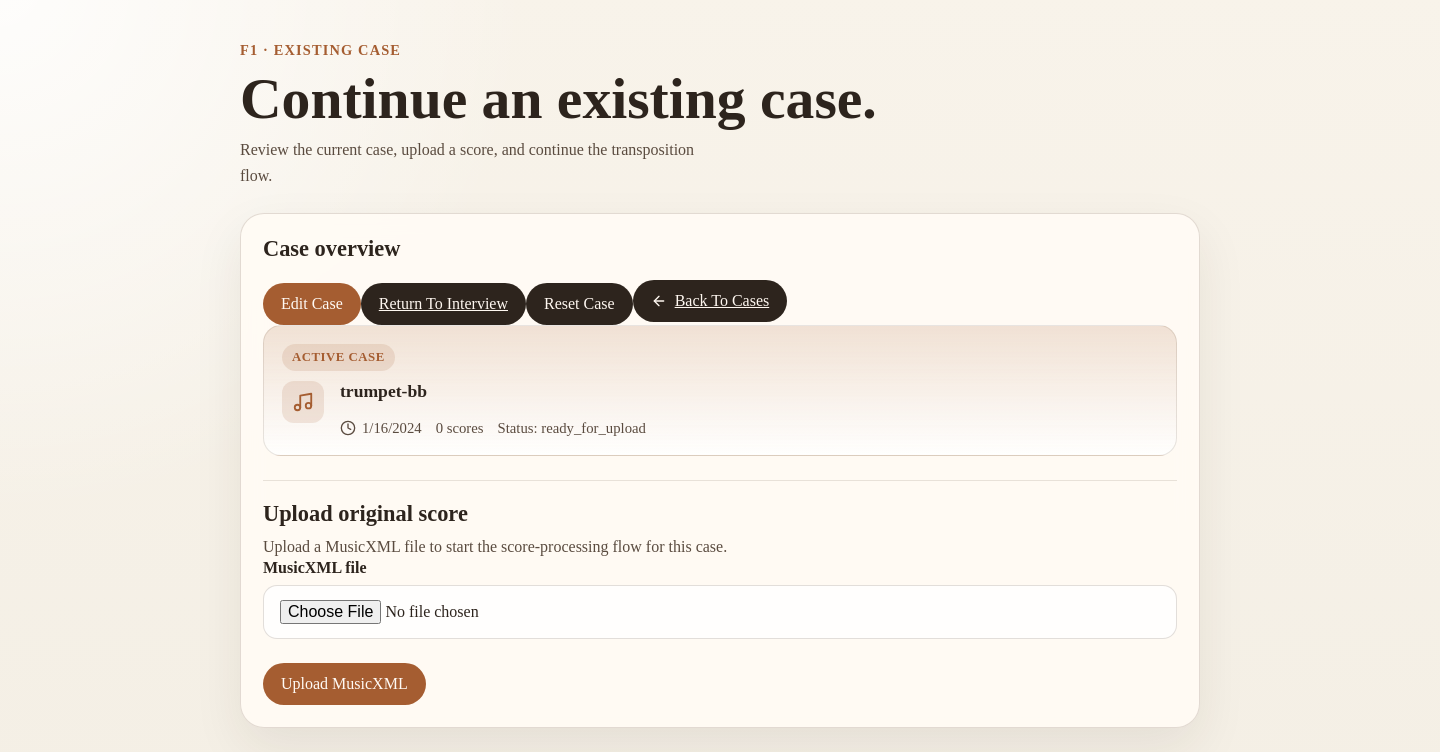
Test case: CaseDetailPage › allows editing the case constraints directly on the case page
This screenshot has width=1440, height=752.
Click the button "Edit Case". click: (312, 304)
box: 263,283 -> 361,325
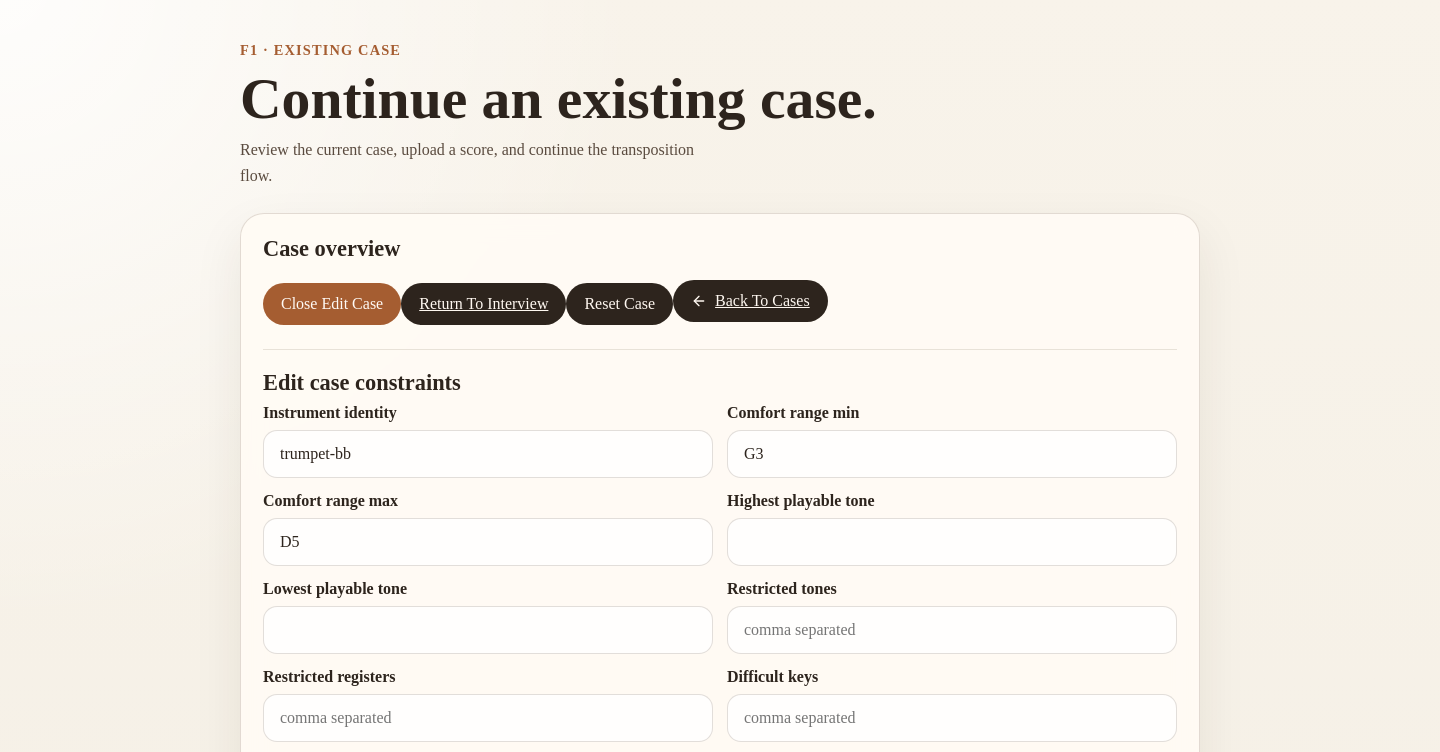
Replace the text in the field labelled "Instrument identity" with "flute". click: (488, 454)
box: 263,430 -> 713,478
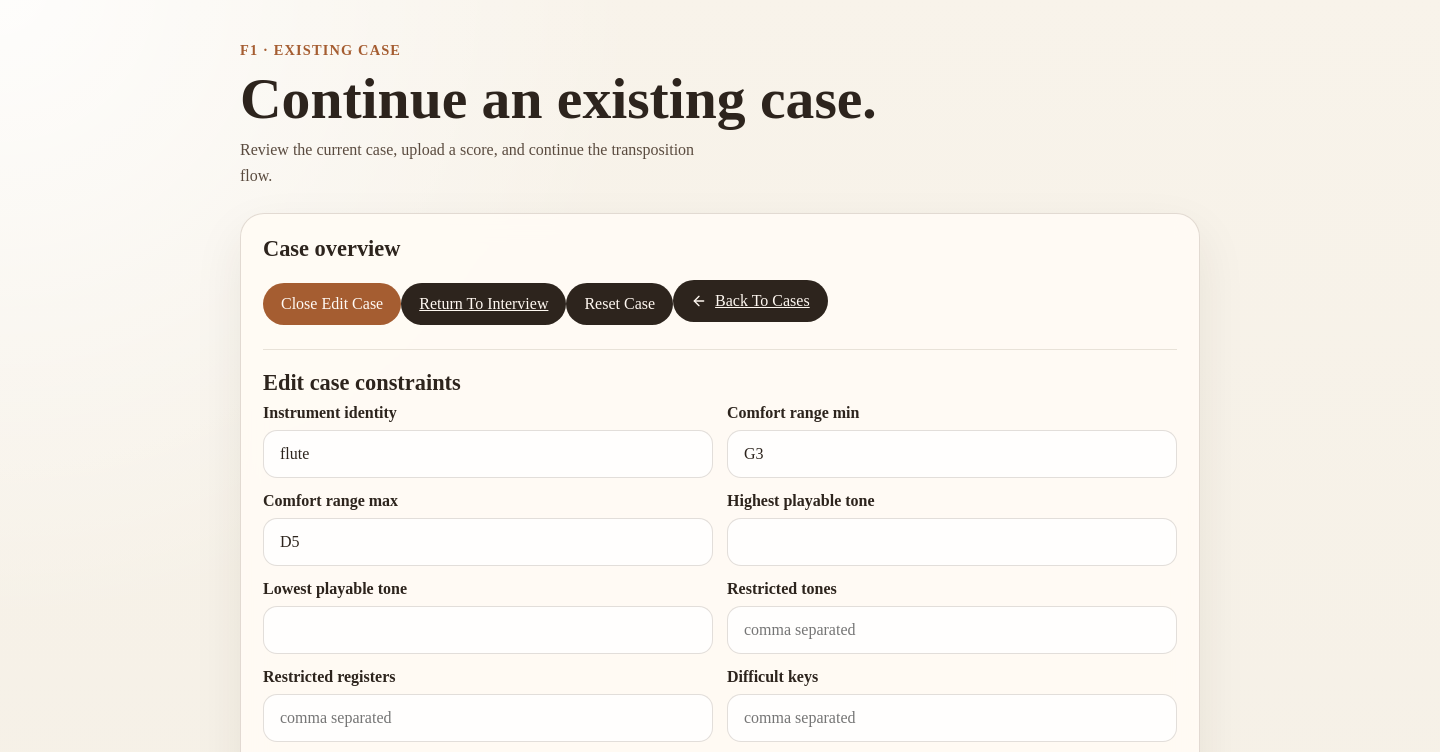
Replace the text in the field labelled "Comfort range min" with "A3". click: (952, 454)
box: 727,430 -> 1177,478
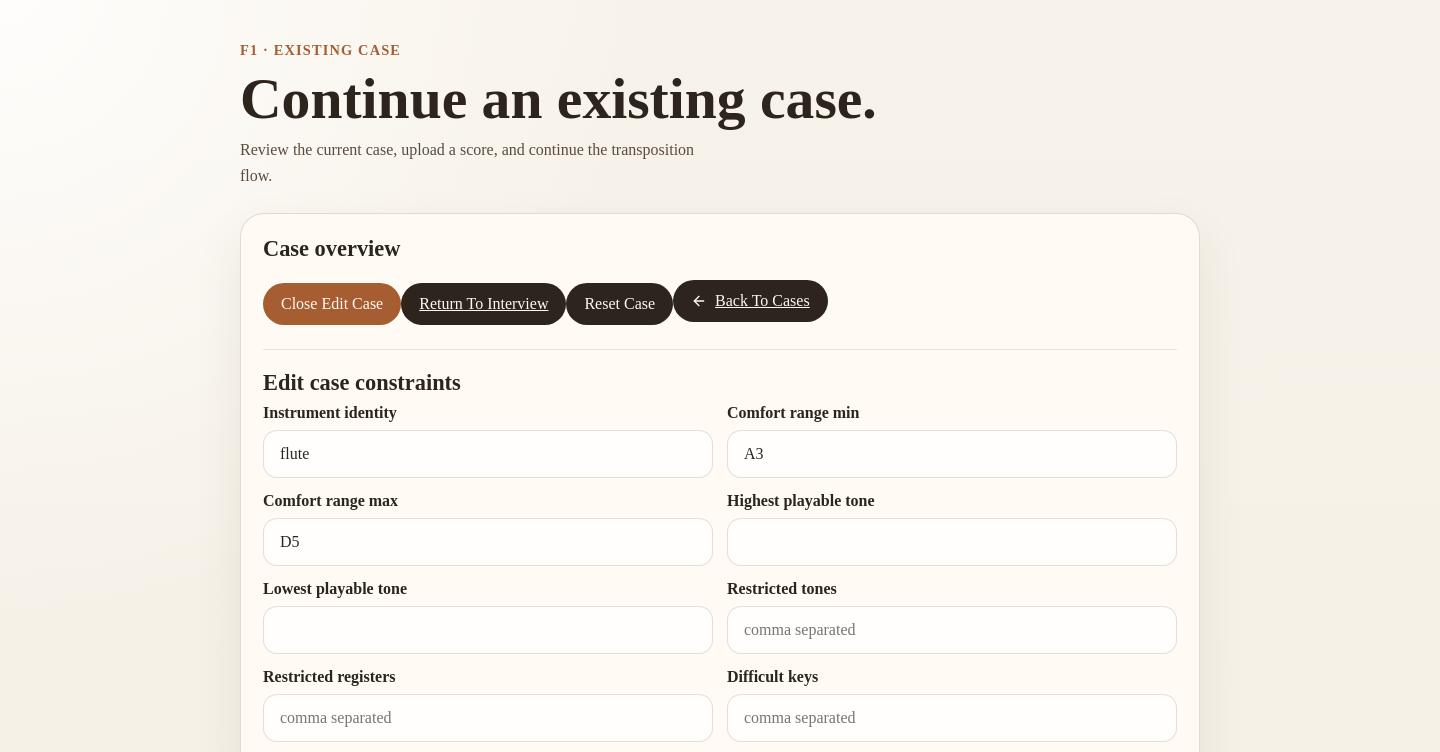
Replace the text in the field labelled "Comfort range max" with "E5". click: (488, 542)
box: 263,518 -> 713,566
(page scrolled)
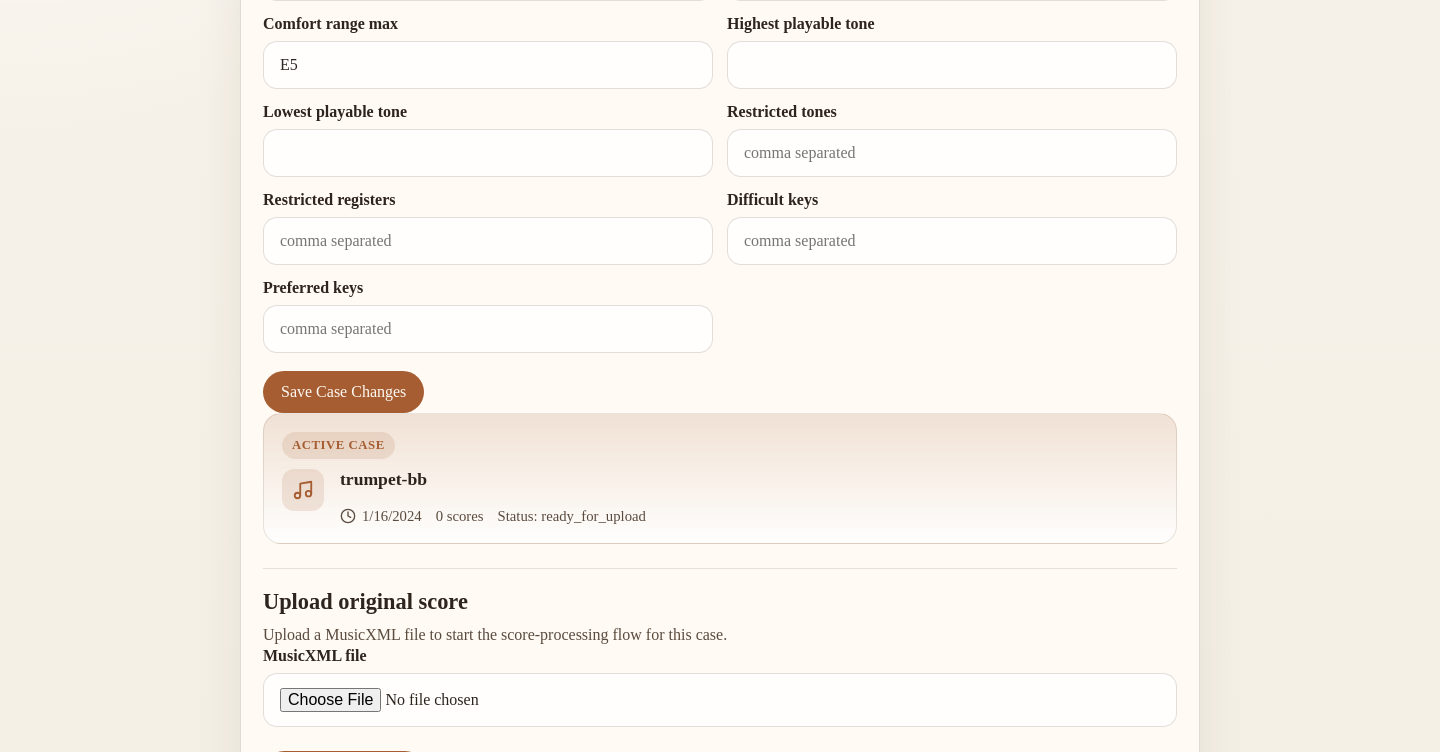
Click the button "Save Case Changes". click: (344, 392)
box: 263,371 -> 424,413
(page scrolled)
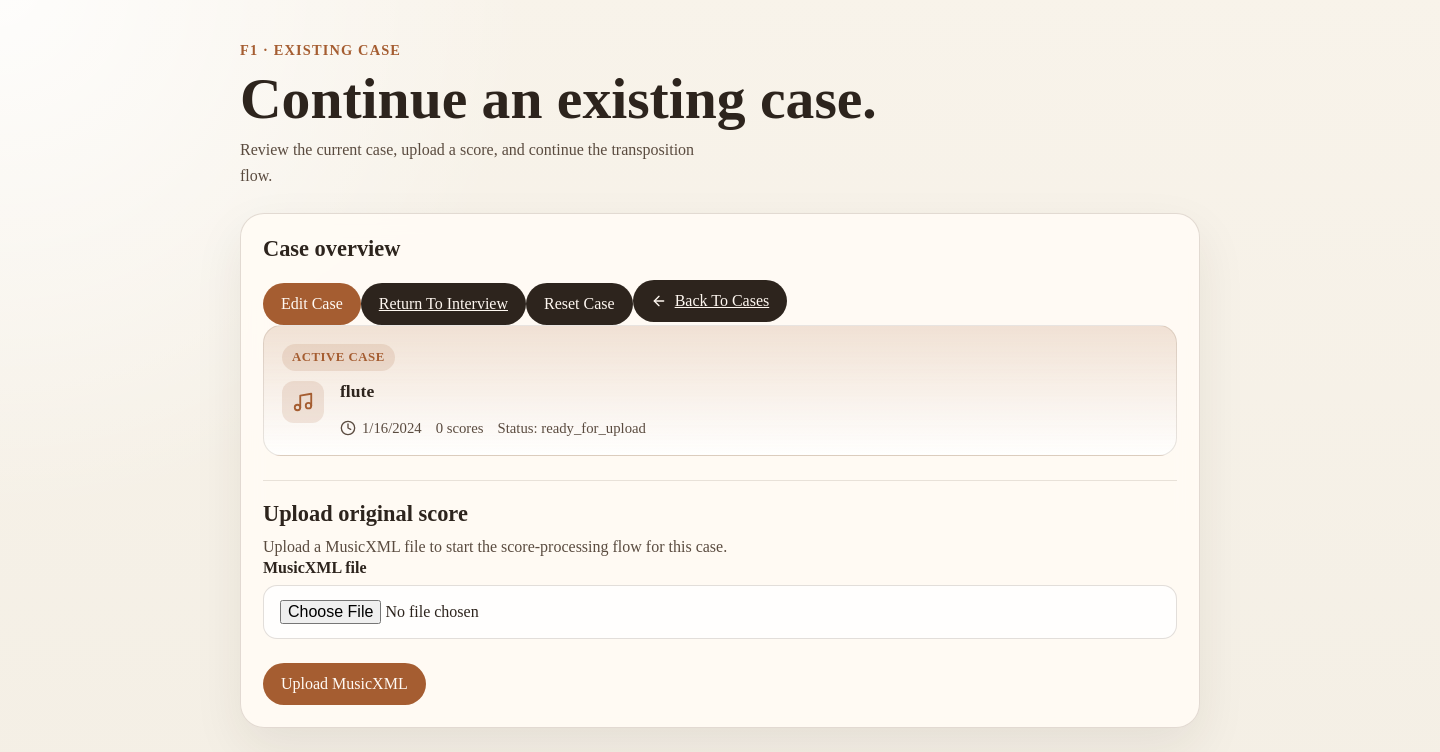
expect the heading "flute" is shown: met, box 340,381 -> 374,402
